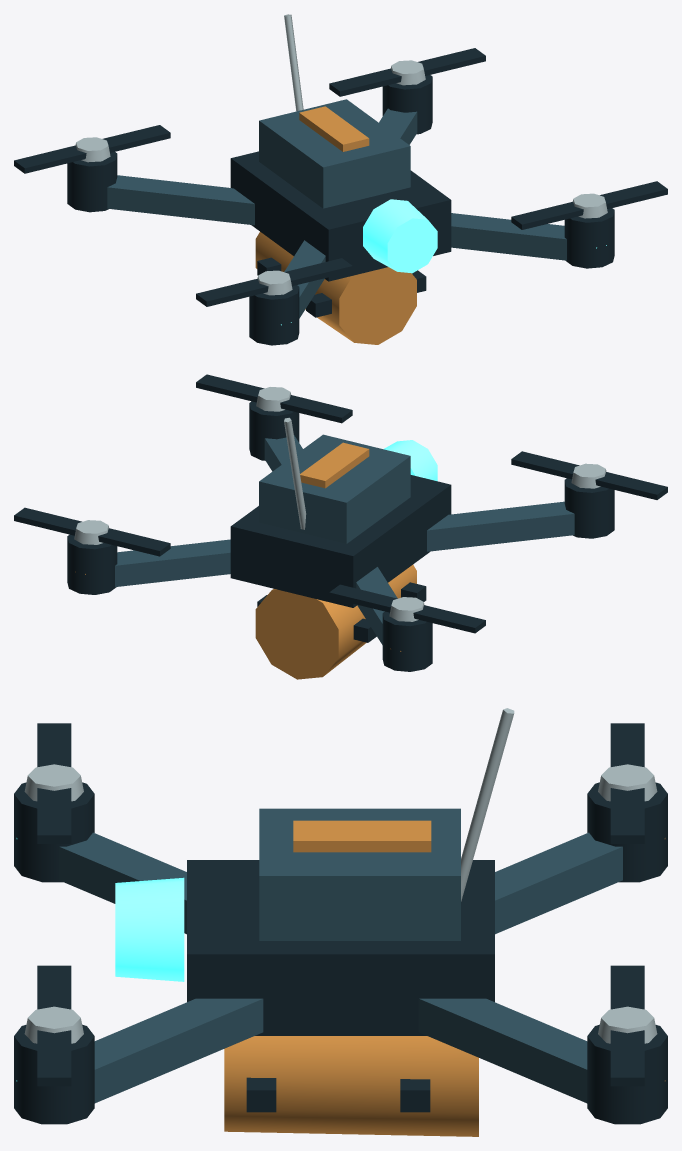
The model's file is fpv.glb.
The picture shows the model from 3 angles, top to bottom: view 1: azimuth 30°, elevation 25°; view 2: azimuth 150°, elevation 25°; view 3: azimuth 270°, elevation 25°; orthographic projection. The views are drawn at different scales.
Visible parts, largest first — view 1: NOVA FPV; view 2: NOVA FPV; view 3: NOVA FPV.
Part boxes in pixels (x1,y1,x2,y2): NOVA FPV: (14,14,667,345); NOVA FPV: (14,374,667,679); NOVA FPV: (14,708,667,1136).
Bounding box in the file's own units: 0.79 × 0.4379 × 0.616.
